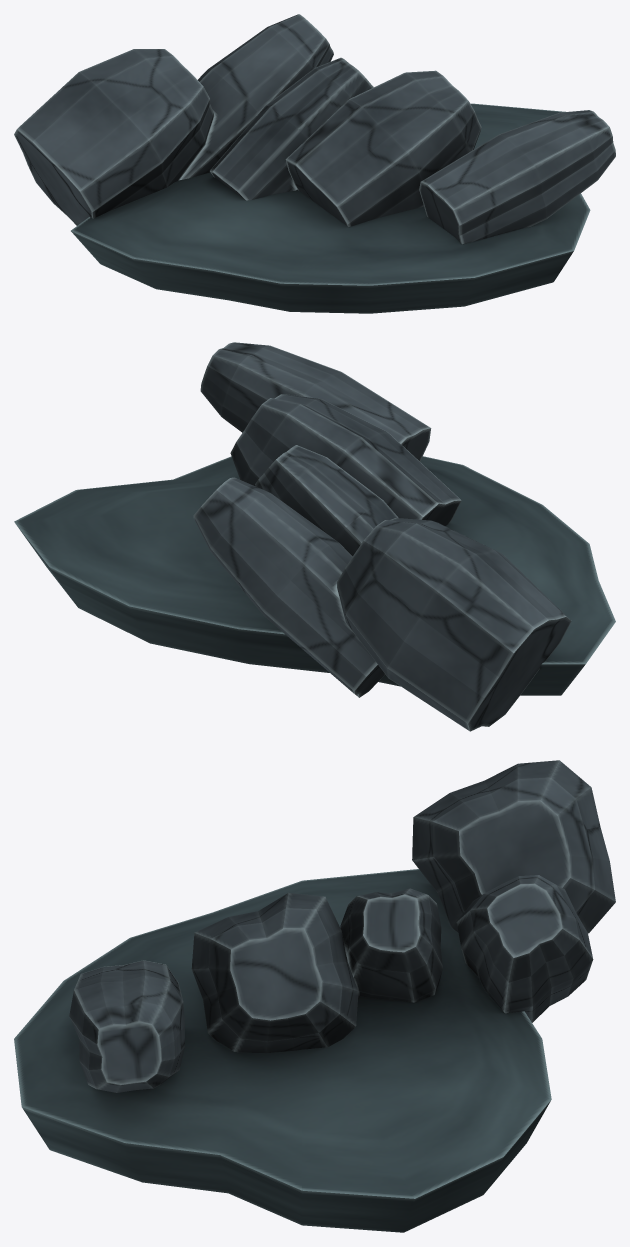
File: underworld-flora-blackwater-fingerstone-rubble.glb
The picture shows the model from 3 angles, top to bottom: view 1: azimuth 30°, elevation 25°; view 2: azimuth 150°, elevation 25°; view 3: azimuth 270°, elevation 25°; orthographic projection. The views are drawn at different scales.
Visible parts, largest first — view 1: broken-fingers, crust; view 2: broken-fingers, crust; view 3: crust, broken-fingers.
Part boxes in pixels (x1,y1,x2,y2): broken-fingers: [14, 14, 615, 244]; crust: [71, 103, 590, 313]; broken-fingers: [193, 342, 571, 731]; crust: [14, 456, 615, 695]; crust: [14, 869, 551, 1232]; broken-fingers: [69, 760, 615, 1092].
Size of the model in its own units: 1.29 by 0.3979 by 0.9845.
Materials: 2 (2 with a texture image).
